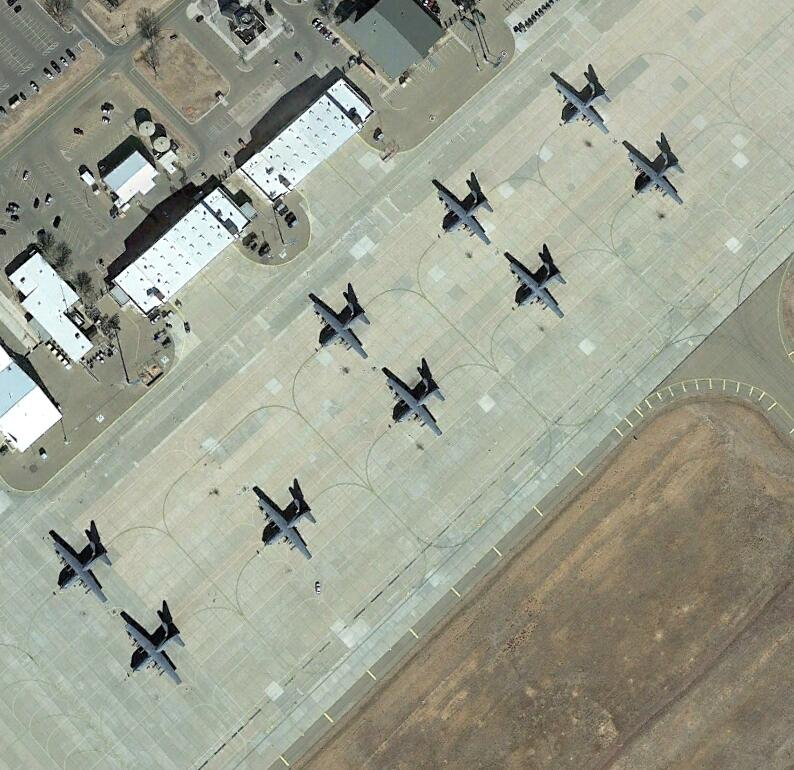A2: (48, 532, 117, 607), (117, 616, 185, 688), (505, 249, 571, 323), (623, 136, 687, 207), (253, 493, 317, 564), (432, 177, 494, 249), (384, 369, 446, 440), (309, 292, 372, 361), (554, 69, 614, 135)
